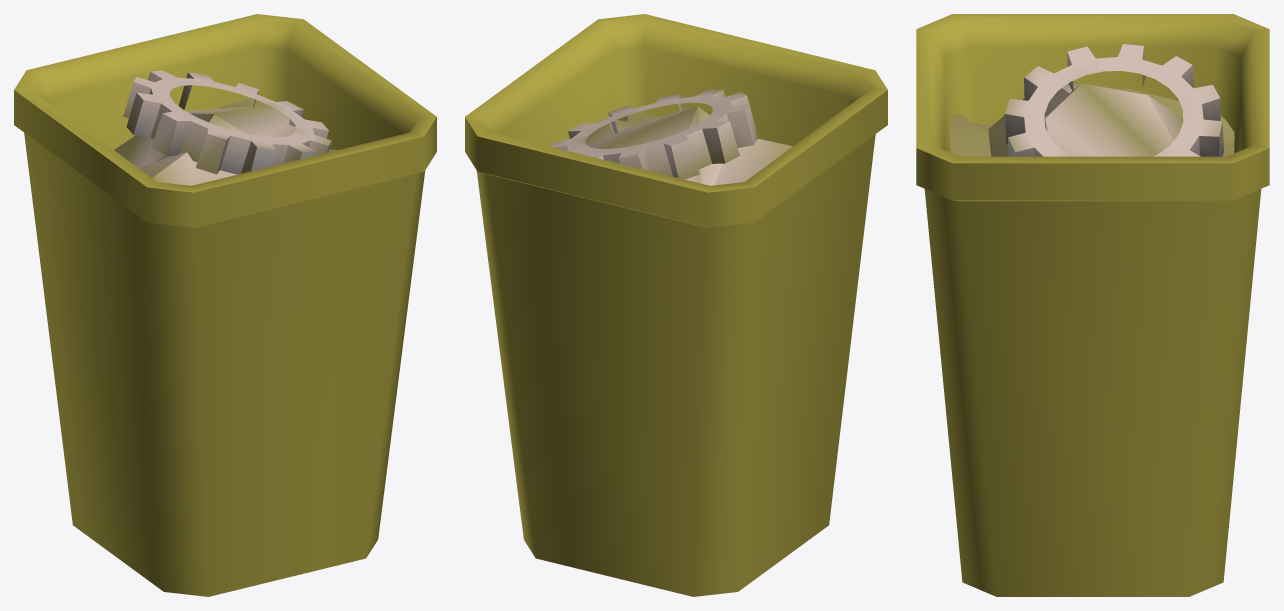
File: SM_Bin_Yellow.glb
3 renders of one model, left to right at view 1: azimuth 30°, elevation 25°; view 2: azimuth 150°, elevation 25°; view 3: azimuth 270°, elevation 25°, orthographic. The views are drawn at different scales.
Parts seen in each view (by area): view 1: SM_Bin_Yellow, SM_Trash_Yellow; view 2: SM_Bin_Yellow, SM_Trash_Yellow; view 3: SM_Bin_Yellow, SM_Trash_Yellow.
Boxes of the visible parts, left/top/right/bottom form: SM_Bin_Yellow: left=14, top=14, right=436, bottom=596; SM_Trash_Yellow: left=114, top=70, right=337, bottom=185; SM_Bin_Yellow: left=465, top=14, right=887, bottom=596; SM_Trash_Yellow: left=551, top=89, right=792, bottom=185; SM_Bin_Yellow: left=916, top=14, right=1269, bottom=596; SM_Trash_Yellow: left=950, top=44, right=1234, bottom=156.
Bounding box in the file's own units: 0.7113 × 1.03 × 0.7113.
